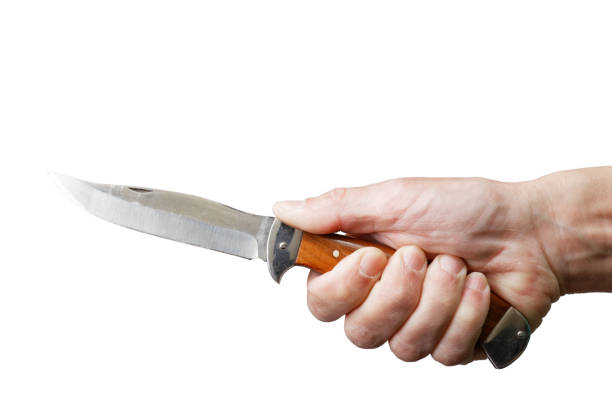knife: (54, 173, 534, 372)
